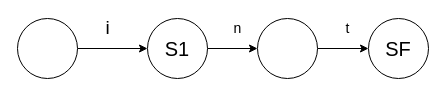
This 446x96 diagram has some shape labels left out. Here are the shapes that lost their labels. From the top down, the centre of each, then its label:
point 47,48: S0
point 287,48: S2
